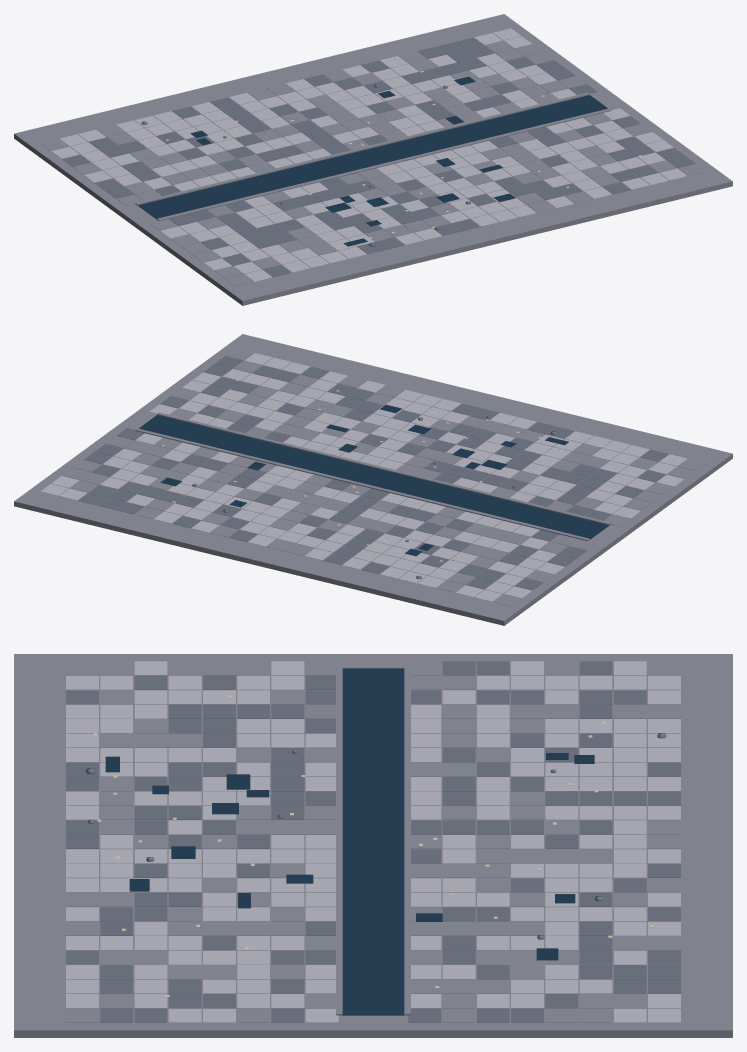
The model's file is archive_floor.glb.
3 views of the same model, one above another, from view 1: azimuth 30°, elevation 25°; view 2: azimuth 150°, elevation 25°; view 3: azimuth 270°, elevation 25° (orthographic). The views are drawn at different scales.
Parts seen in each view (by area): view 1: base; view 2: base; view 3: base.
Part boxes in pixels (x1,y1,x2,y2): base: [14, 14, 732, 305]; base: [14, 334, 732, 625]; base: [14, 654, 732, 1037].
Size of the model in its own units: 52 by 0.743 by 42.
